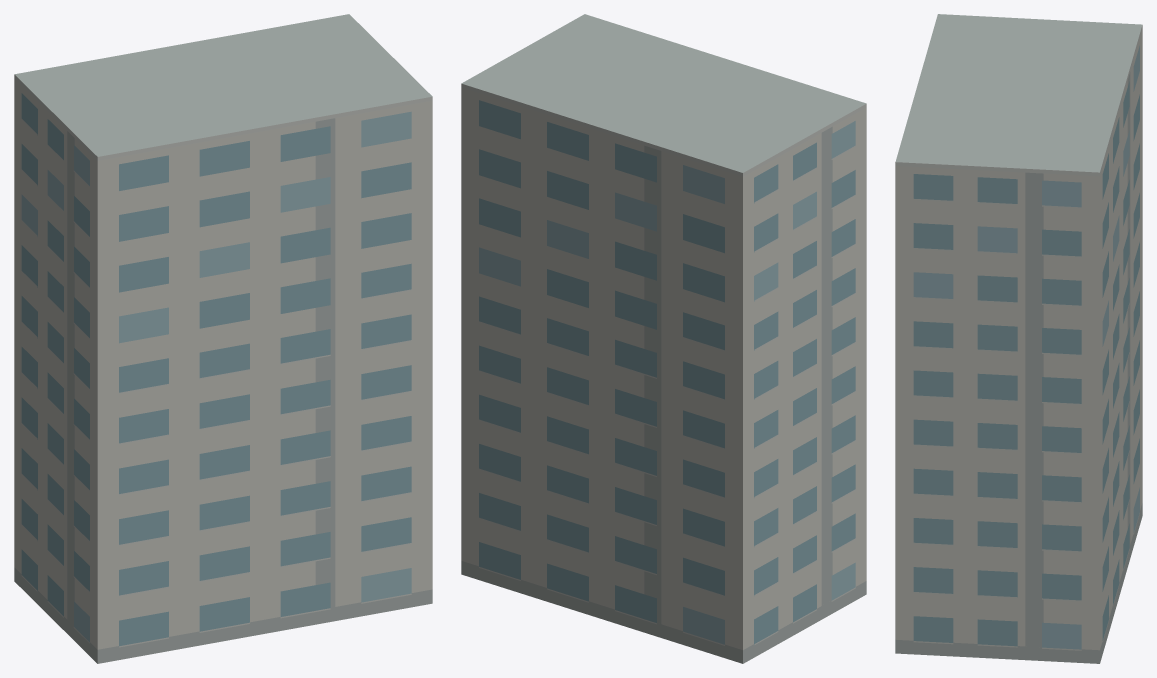
The model's file is residential-a8c7a6b7-b205-49c3-85c5-235a100c44d4.glb.
3 views of the same model, side by side, from view 1: azimuth 30°, elevation 25°; view 2: azimuth 150°, elevation 25°; view 3: azimuth 270°, elevation 25° (orthographic). The views are drawn at different scales.
Parts seen in each view (by area): view 1: residential-a8c7a6b7-b205-49c3-85c5-235a100c44d4.tmp; view 2: residential-a8c7a6b7-b205-49c3-85c5-235a100c44d4.tmp; view 3: residential-a8c7a6b7-b205-49c3-85c5-235a100c44d4.tmp.
Boxes of the visible parts, left/top/right/bottom form: residential-a8c7a6b7-b205-49c3-85c5-235a100c44d4.tmp: left=14, top=14, right=432, bottom=663; residential-a8c7a6b7-b205-49c3-85c5-235a100c44d4.tmp: left=461, top=14, right=866, bottom=663; residential-a8c7a6b7-b205-49c3-85c5-235a100c44d4.tmp: left=895, top=14, right=1142, bottom=663.
Bounding box in the file's own units: 21.46 × 31 × 14.14.
